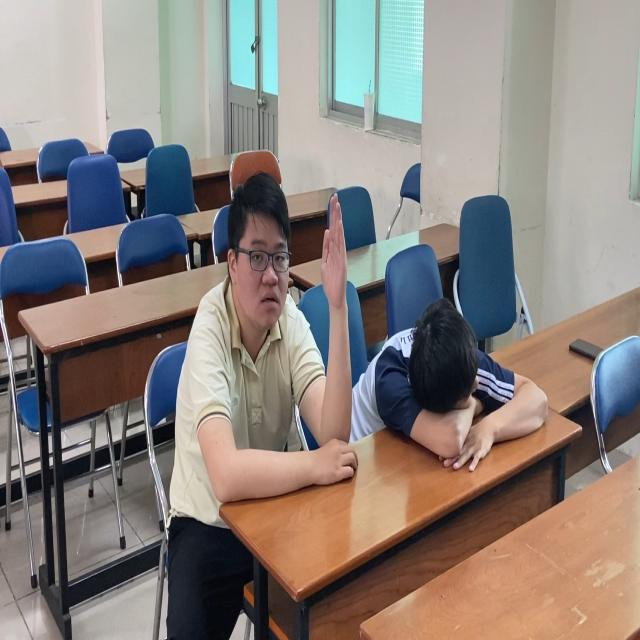raise_hand: (173, 167, 359, 519)
sleep: (366, 294, 559, 487)
